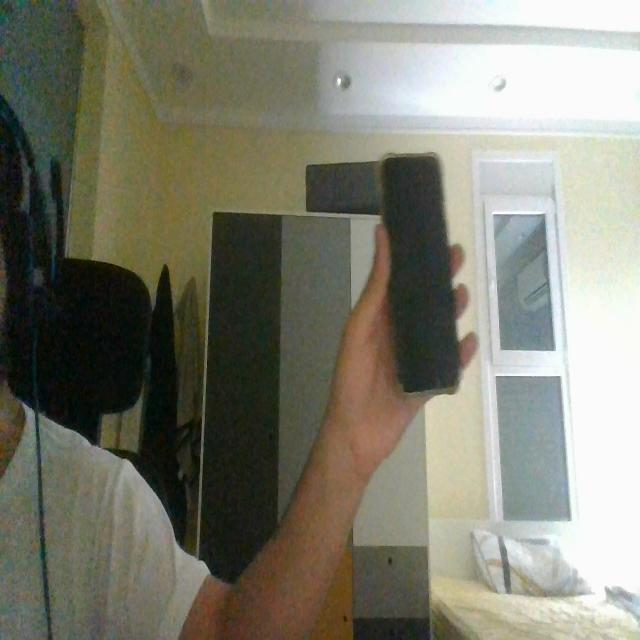Phone: (378, 148, 462, 400)
